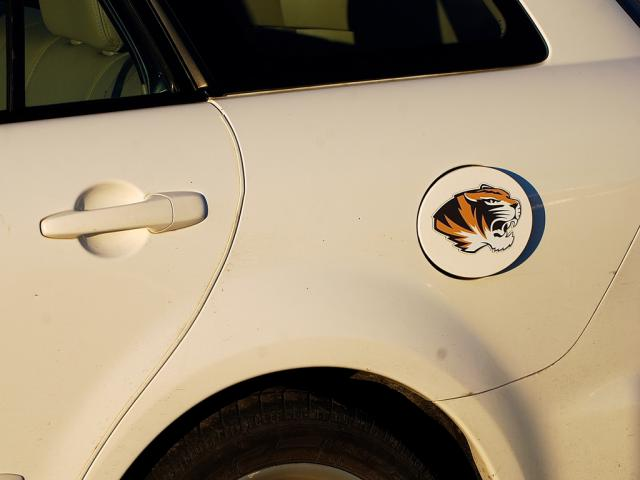Door-handle: (26, 174, 194, 250)
